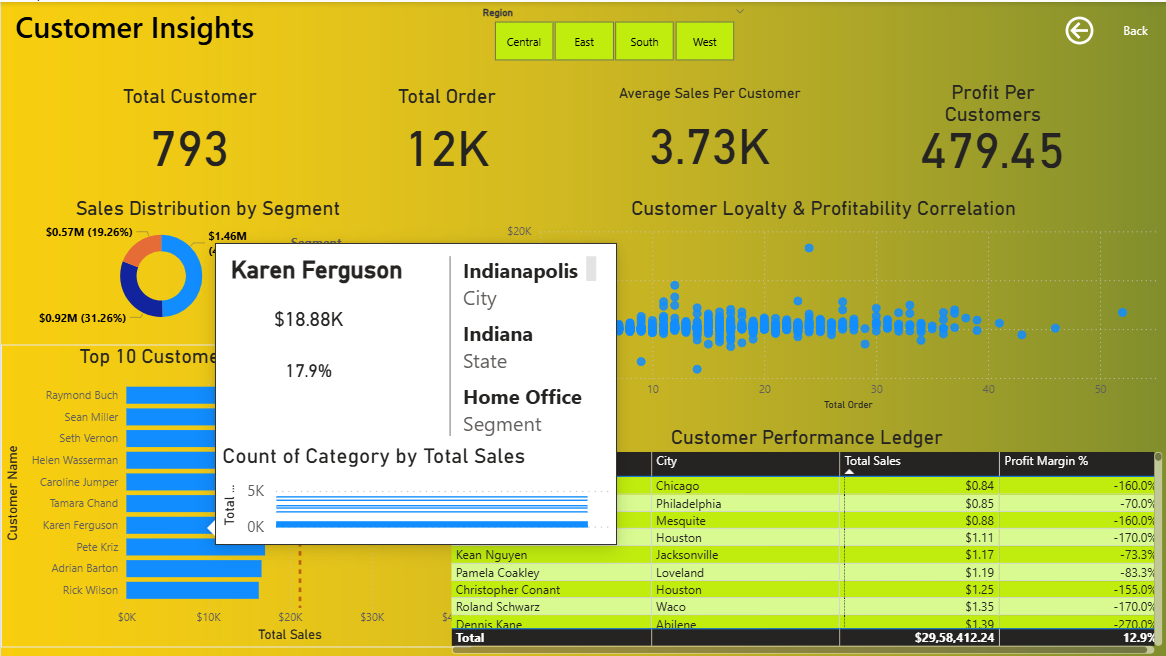

The dashboard page shown, as its layout file describes it:
{"tool":"powerbi","page":{"name":"Customer Insights","canvas":[1280,720],"ordinal":2},"visuals":[{"type":"slicer","fields":{"Values":["Dim_Geography.Region"]},"box":[516,0,312.9,71.4],"z":0},{"type":"card","title":"Total Customer","fields":{"Values":["_Measures.Total customer"]},"box":[120.8,90.3,172.9,104.3],"z":1000},{"type":"card","title":"Total Order ","fields":{"Values":["_Measures.Total Order"]},"box":[403.1,90.5,172,104],"z":2000},{"type":"card","title":"Average Sales Per Customer","fields":{"Values":["_Measures.Average Sales Per Customer"]},"box":[672.4,90.3,211.3,104.3],"z":3000},{"type":"card","title":"Profit Per Customers","fields":{"Values":["_Measures.Profit per Customers"]},"box":[1003.1,86.2,171.5,112.5],"z":4000},{"type":"clusteredBarChart","title":"Top 10 Customers by Total Revenue","fields":{"Category":["Dim_Customer.Customer Name"],"Y":["_Measures.Total Sales"]},"box":[0,376,516,332.1],"z":5000},{"type":"donutChart","title":"Sales Distribution by Segment","fields":{"Category":["Dim_Customer.Segment"],"Y":["_Measures.Total Sales"]},"box":[28.8,214.1,396.6,149.6],"z":6000},{"type":"scatterChart","title":"Customer Loyalty & Profitability Correlation","fields":{"X":["_Measures.Total Order"],"Y":["_Measures.Total Profit"],"Category":["Dim_Customer.Customer ID"]},"box":[525.6,214.1,754.7,238.8],"z":7000},{"type":"tableEx","title":"Customer Performance Ledger","fields":{"Values":["Dim_Customer.Customer Name","Dim_Geography.City","_Measures.Total Sales","_Measures.Profit Margin %"]},"box":[488.5,465.2,791.8,255.2],"z":8000},{"type":"textbox","box":[0,0,293.7,63.1],"z":9000},{"type":"actionButton","box":[1163.9,11.2,99.6,40.7],"z":10000}]}

Visuals, with their boxes in screenshot pixels (x1, y1, x2, y2), scaled from the page's 1280x720 canvas onto the 1166x656 screenshot:
slicer - Dim_Geography.Region: (left=470, top=0, right=755, bottom=65)
"Total Customer" card: (left=110, top=82, right=268, bottom=177)
"Total Order " card: (left=367, top=82, right=524, bottom=177)
"Average Sales Per Customer" card: (left=613, top=82, right=805, bottom=177)
"Profit Per Customers" card: (left=914, top=79, right=1070, bottom=181)
"Top 10 Customers by Total Revenue" clusteredBarChart: (left=0, top=343, right=470, bottom=645)
"Sales Distribution by Segment" donutChart: (left=26, top=195, right=388, bottom=331)
"Customer Loyalty & Profitability Correlation" scatterChart: (left=479, top=195, right=1165, bottom=413)
"Customer Performance Ledger" tableEx: (left=445, top=424, right=1165, bottom=655)
textbox: (left=0, top=0, right=268, bottom=57)
actionButton: (left=1060, top=10, right=1151, bottom=47)
